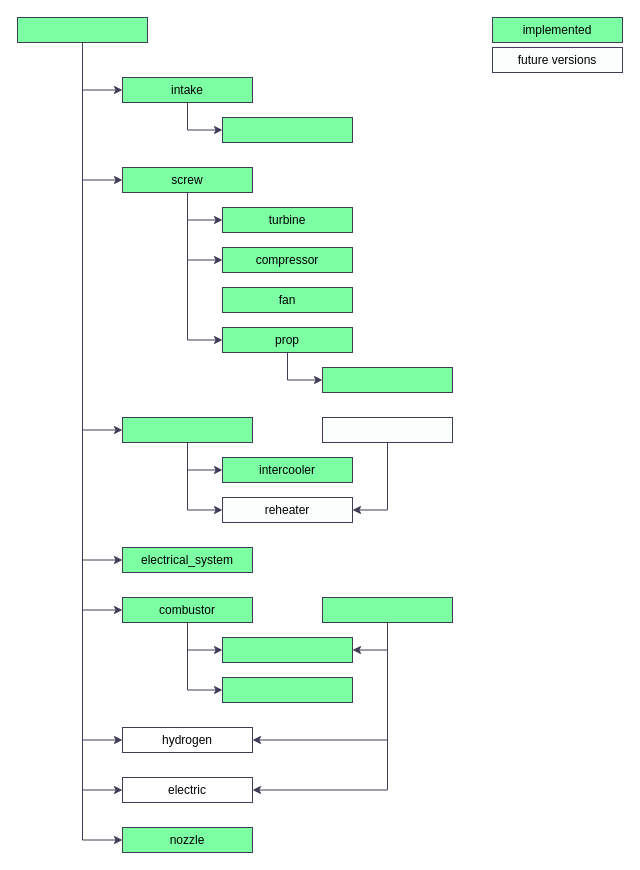
The diagram is 640 pixels wide and 870 high, and some of its shapes have lost their labels. Each missing label, with the centre of its shape:
"afterburner" belongs at (x=287, y=689).
"combustion_chamber" belongs at (x=287, y=649).
"component" belongs at (x=82, y=29).
"heat_sink" belongs at (x=187, y=429).
"heat_source" belongs at (x=387, y=429).
"inlet" belongs at (x=287, y=129).
"plant" belongs at (x=387, y=609).
"propfan" belongs at (x=387, y=379).
